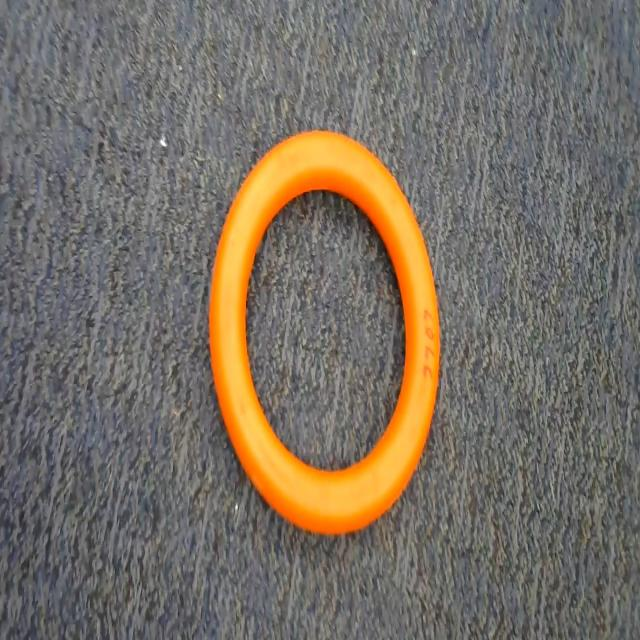note: (200, 126, 454, 552)
